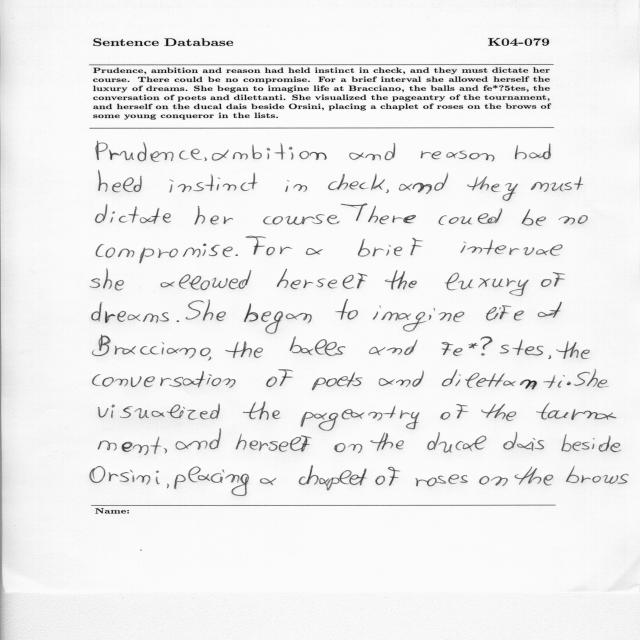word: (301, 406, 420, 431), (96, 244, 233, 264), (442, 369, 565, 390), (92, 371, 236, 388), (92, 335, 196, 358), (373, 306, 464, 332), (174, 466, 249, 496), (96, 141, 202, 162), (244, 303, 312, 334), (98, 403, 220, 420), (212, 143, 327, 161), (442, 336, 544, 356), (445, 272, 529, 296), (161, 270, 252, 290), (277, 269, 367, 289), (327, 204, 416, 224), (460, 239, 563, 256), (299, 466, 367, 491), (170, 174, 258, 193), (92, 302, 169, 323), (95, 204, 171, 224), (536, 403, 617, 420), (236, 434, 312, 452), (90, 466, 159, 485), (467, 176, 518, 201), (428, 432, 487, 453), (358, 238, 423, 257), (98, 437, 161, 455), (566, 466, 629, 484), (290, 336, 346, 356), (439, 208, 503, 225), (562, 434, 621, 452), (399, 173, 448, 194), (99, 170, 142, 192), (176, 429, 221, 450), (328, 174, 385, 190), (312, 372, 362, 390), (246, 236, 293, 255), (186, 299, 226, 321), (421, 151, 495, 162), (350, 143, 396, 160), (531, 177, 583, 192), (503, 432, 544, 451), (90, 269, 124, 291), (195, 206, 233, 225), (515, 467, 553, 486), (369, 340, 417, 355), (379, 371, 424, 387), (243, 402, 280, 420), (574, 369, 609, 388), (225, 341, 263, 358), (370, 432, 404, 451), (385, 270, 417, 290), (415, 475, 468, 487), (556, 341, 590, 359), (486, 305, 524, 321), (482, 404, 517, 421), (515, 144, 551, 160), (266, 369, 293, 387), (335, 299, 358, 320), (376, 467, 401, 486), (263, 216, 315, 225), (441, 404, 469, 420), (522, 209, 546, 226), (538, 302, 562, 318), (541, 272, 565, 287), (559, 215, 588, 225), (479, 476, 508, 486), (335, 443, 363, 453), (285, 180, 307, 192), (200, 348, 211, 361), (312, 214, 324, 224), (306, 248, 323, 255), (260, 478, 277, 485), (385, 189, 389, 193), (567, 382, 571, 386), (164, 448, 167, 453), (204, 157, 207, 161), (548, 355, 551, 359), (167, 484, 169, 489), (235, 254, 238, 256), (177, 320, 179, 322)
